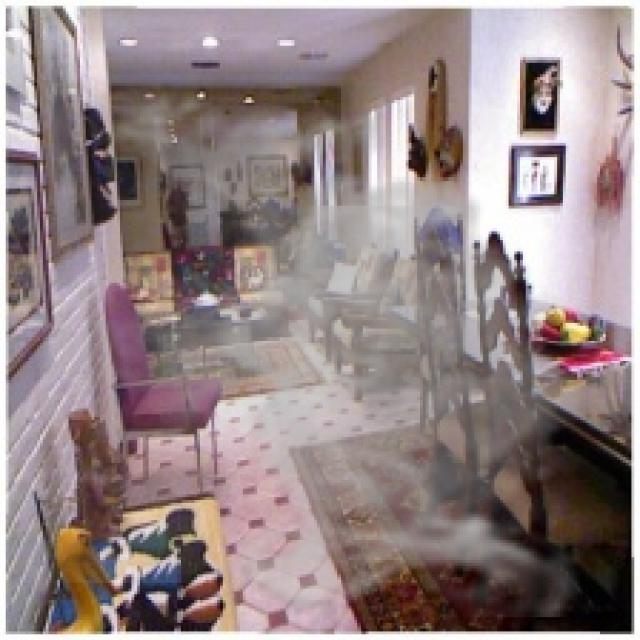smoke: (43, 77, 606, 617)
